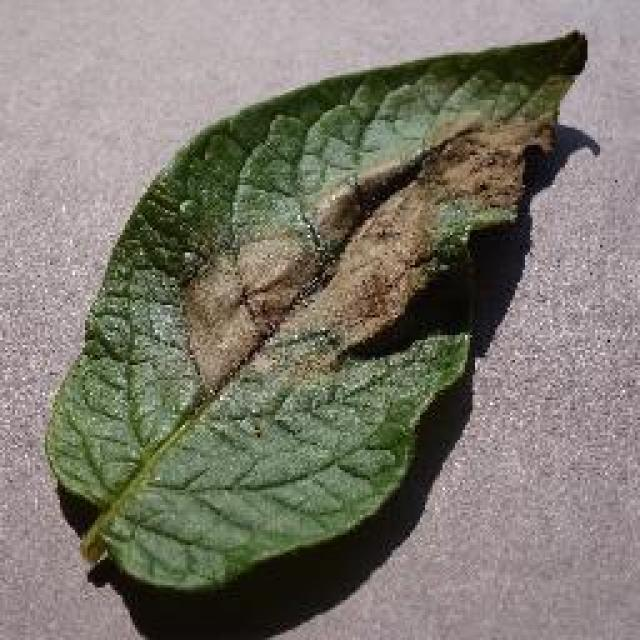late_blight: (40, 25, 592, 597)
